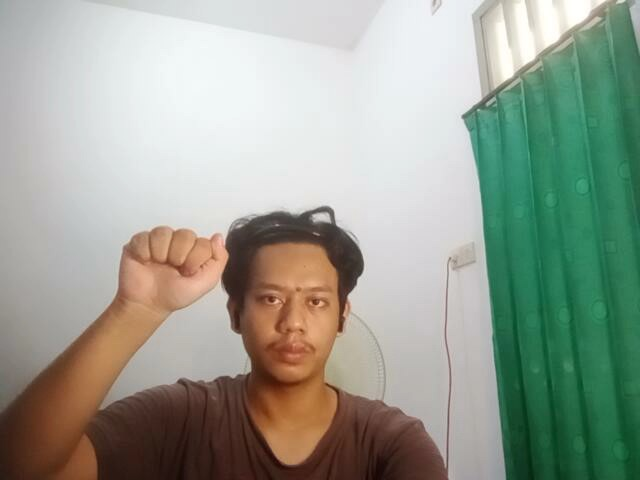A: (104, 207, 236, 320)
